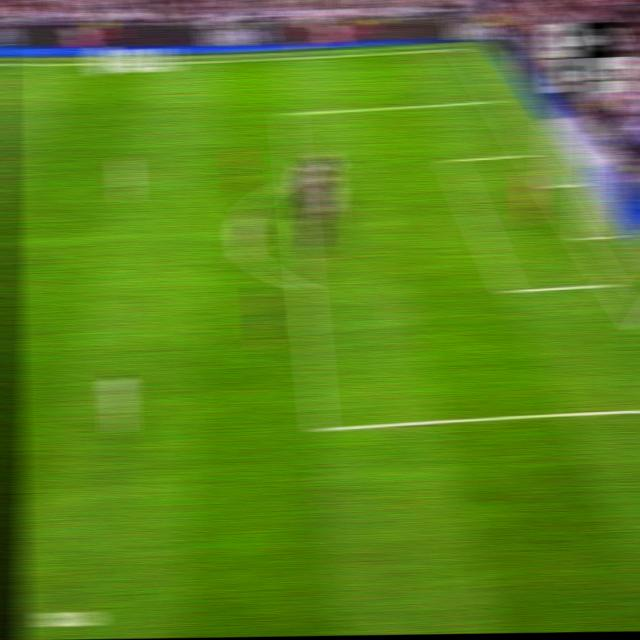bigarea_bottom_inner: (309, 410, 333, 443)
bigarea_top_inner: (279, 106, 297, 121)
bigarea_top_outter: (486, 94, 503, 105)
corner: (453, 43, 473, 53)
smallarea_bottom_outter: (600, 271, 621, 295)
smallarea_top_inner: (442, 152, 463, 169)
smallarea_top_outter: (519, 145, 537, 161)
